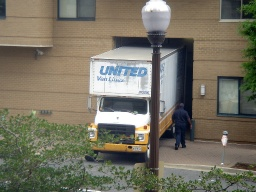person: (170, 102, 193, 152)
truck: (88, 42, 180, 161)
